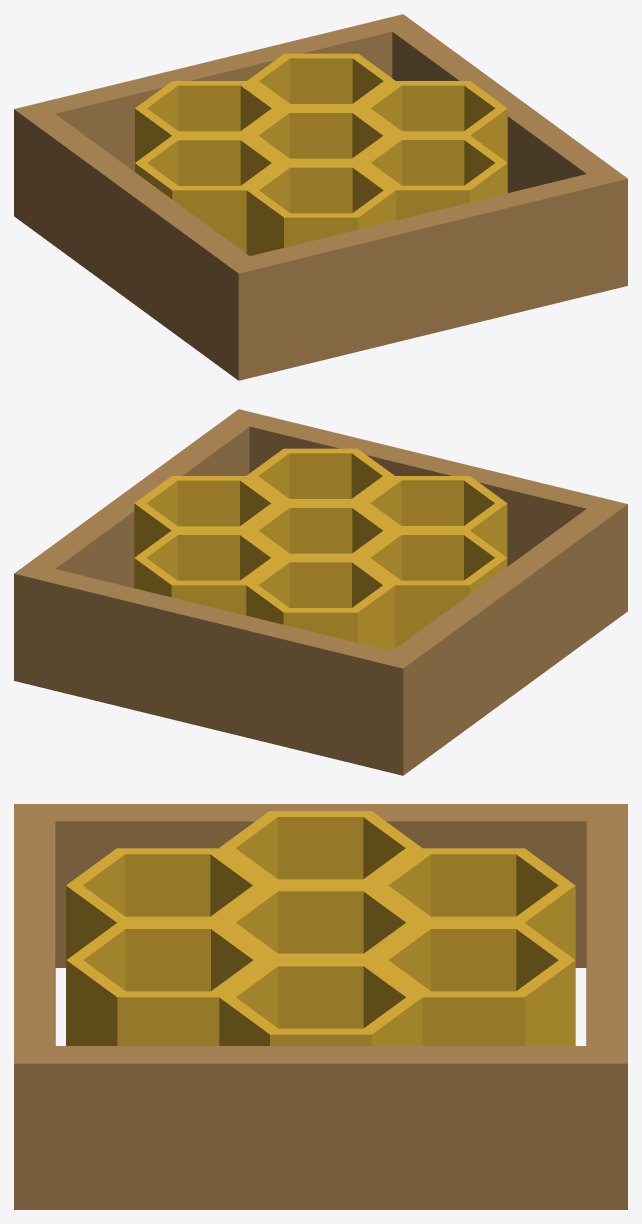
The model's file is alveoli.fbx.
The picture shows the model from 3 angles, top to bottom: view 1: azimuth 30°, elevation 25°; view 2: azimuth 150°, elevation 25°; view 3: azimuth 270°, elevation 25°; orthographic projection. The views are drawn at different scales.
Parts seen in each view (by area): view 1: Cube, Circle; view 2: Cube, Circle; view 3: Cube, Circle.
Part boxes in pixels (<box>): Cube: <box>14,14,627,380</box>; Circle: <box>135,53,507,255</box>; Cube: <box>14,409,627,775</box>; Circle: <box>134,448,507,650</box>; Cube: <box>14,804,627,1209</box>; Circle: <box>66,811,575,1045</box>.
Bounding box in the file's own units: 603 × 183 × 603.
